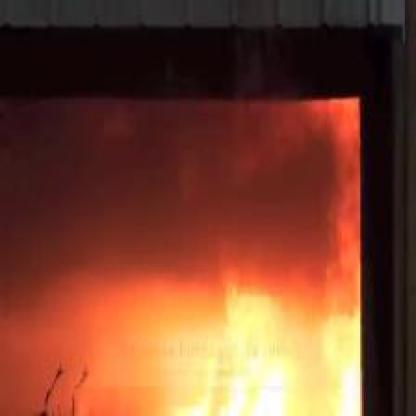fire: (122, 230, 356, 412)
